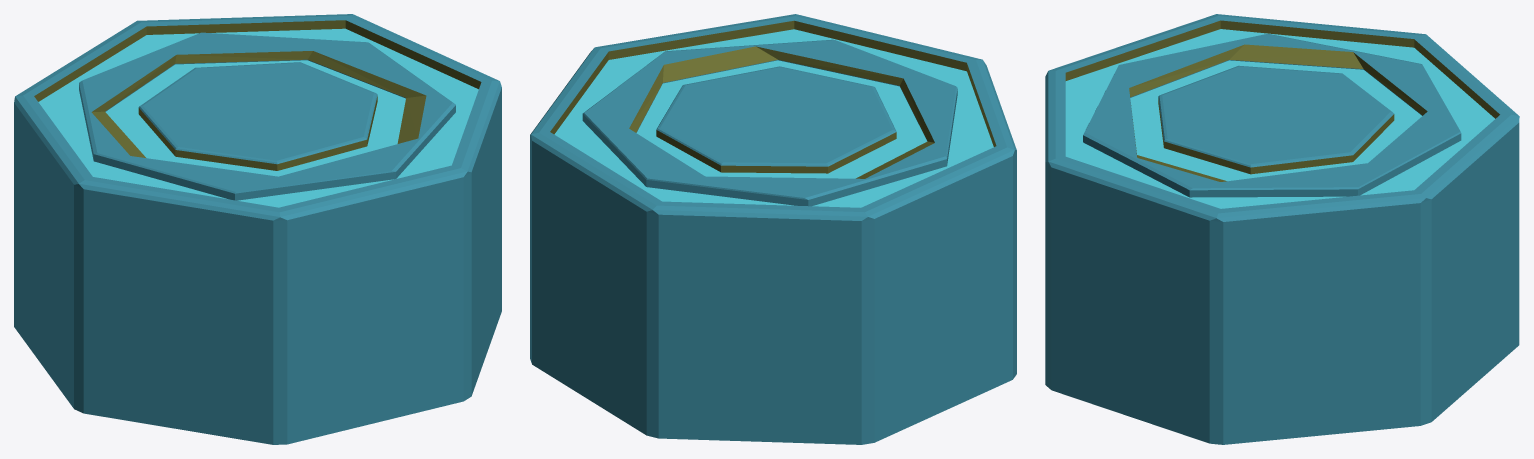
File: diamond_wall.fbx
3 views of the same model, side by side, from view 1: azimuth 30°, elevation 25°; view 2: azimuth 150°, elevation 25°; view 3: azimuth 270°, elevation 25° (orthographic).
Visible parts, largest first — view 1: diamond_wall_body; view 2: diamond_wall_body; view 3: diamond_wall_body.
Part boxes in pixels (x1=…): diamond_wall_body: x1=14, y1=14, x2=501, y2=444; diamond_wall_body: x1=530, y1=14, x2=1016, y2=444; diamond_wall_body: x1=1045, y1=14, x2=1519, y2=444.
Bounding box in the file's own units: 3.87 × 2 × 3.78.
Materials: 1 (1 with a texture image).
